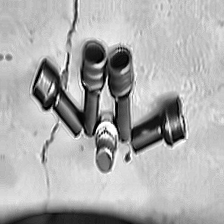cracked: (35, 119, 62, 220), (62, 1, 80, 94)
